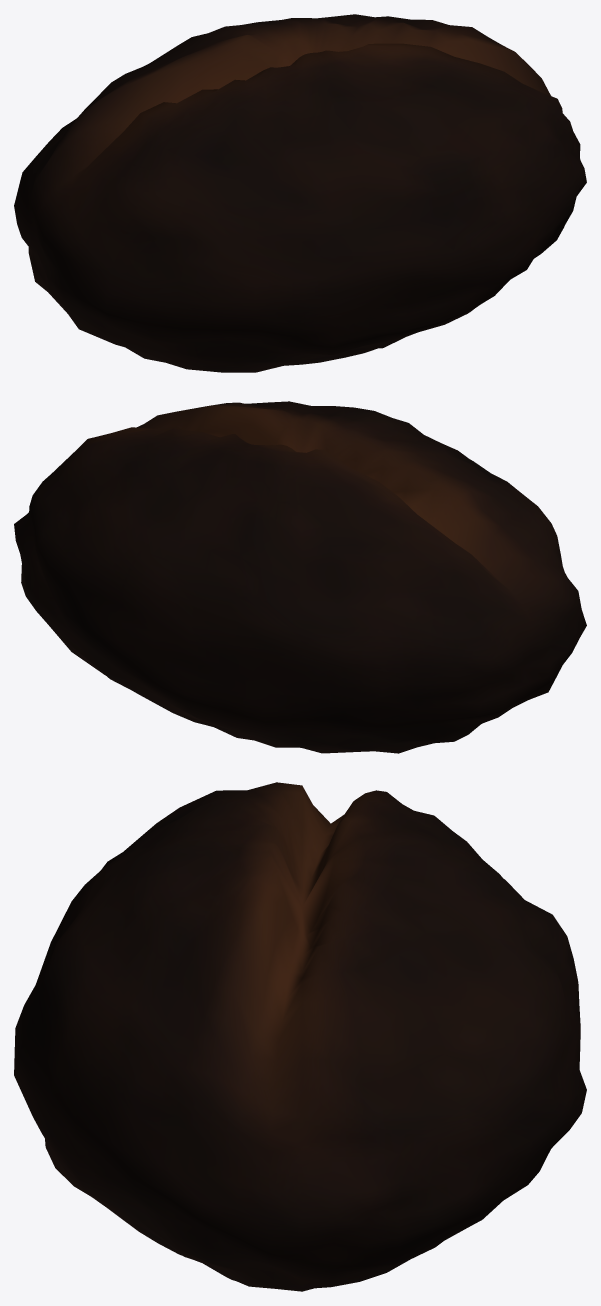
Rendered from bean.glb.
3 views of the same model, one above another, from view 1: azimuth 30°, elevation 25°; view 2: azimuth 150°, elevation 25°; view 3: azimuth 270°, elevation 25° (orthographic). The views are drawn at different scales.
Parts seen in each view (by area): view 1: bean; view 2: bean; view 3: bean.
Boxes of the visible parts, x1=… form: bean: x1=14, y1=14, x2=586, y2=372; bean: x1=14, y1=401, x2=586, y2=753; bean: x1=14, y1=782, x2=586, y2=1291.
Size of the model in its own units: 2.02 by 1.07 by 1.47.
